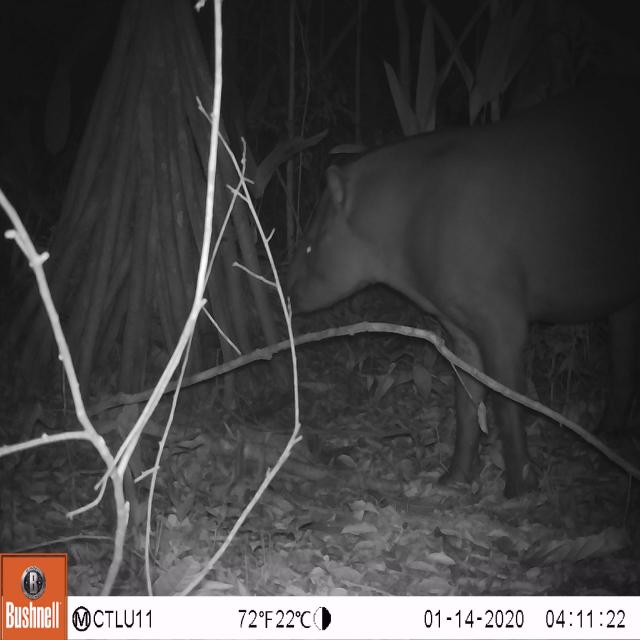Lowland Tapir: (268, 70, 640, 502)
